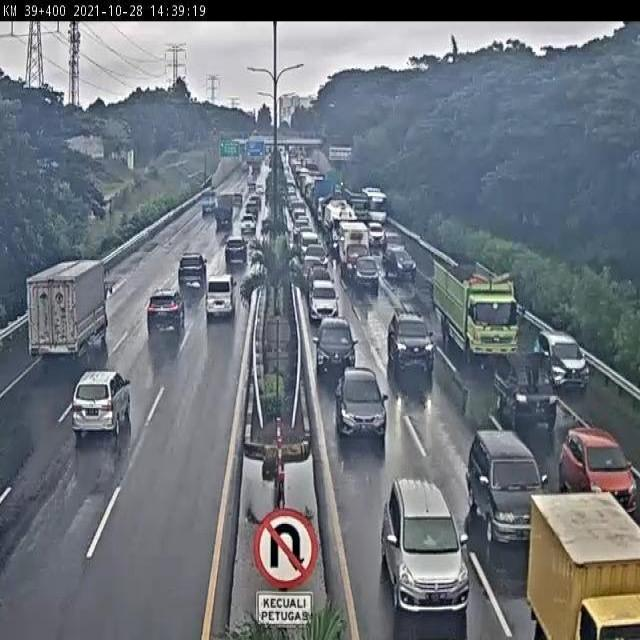car: (380, 477, 470, 615), (467, 428, 546, 537), (560, 431, 639, 517), (71, 375, 132, 437), (334, 369, 385, 436), (387, 310, 435, 366), (533, 332, 584, 384), (315, 317, 352, 372), (145, 290, 181, 334), (308, 276, 337, 321), (206, 275, 237, 317), (381, 248, 420, 280), (178, 252, 209, 288), (354, 255, 379, 285), (223, 238, 247, 266), (382, 229, 407, 255), (303, 253, 324, 280), (307, 264, 331, 285), (305, 244, 328, 265)
mid truck: (431, 256, 515, 353), (28, 260, 106, 356)
small truck: (495, 355, 558, 424), (340, 224, 370, 271)
